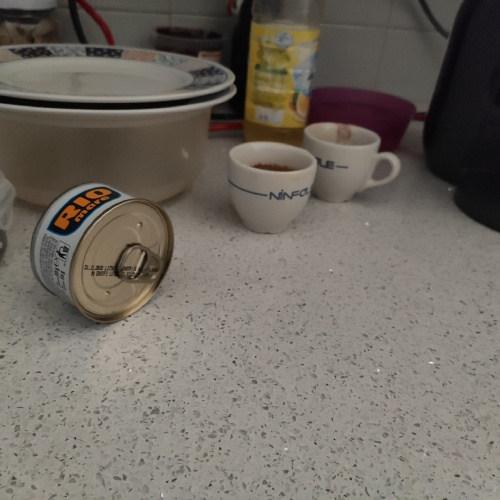tonno: (22, 176, 178, 326)
